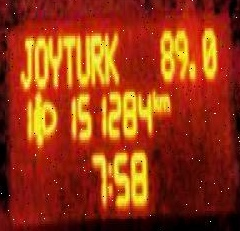-: (188, 58, 196, 81)
0: (200, 20, 217, 79)
1: (66, 91, 76, 140), (97, 86, 106, 137), (23, 94, 31, 139)
2: (106, 89, 120, 137)
4: (136, 89, 151, 134)
5: (112, 145, 128, 206), (76, 89, 92, 140)
7: (87, 147, 106, 206)
8: (128, 147, 147, 206), (157, 25, 172, 81), (120, 86, 136, 137)
9: (172, 25, 188, 79)
X: (104, 28, 120, 84), (18, 33, 33, 91), (33, 30, 47, 89), (88, 30, 103, 84), (47, 33, 61, 89), (61, 31, 75, 87), (75, 30, 89, 84), (157, 91, 170, 112), (106, 157, 112, 198), (151, 84, 157, 114)
